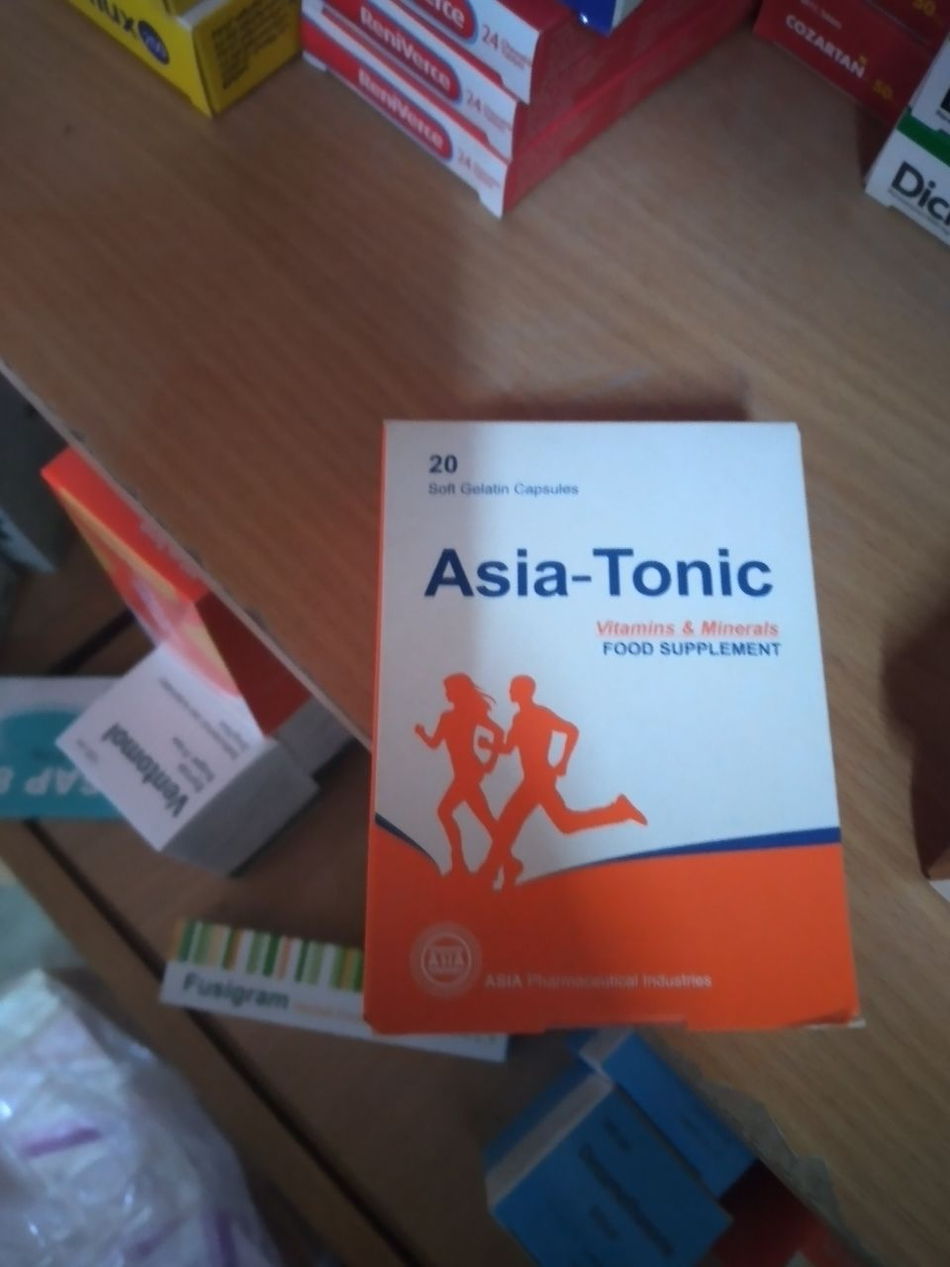Medicine: (366, 399, 861, 1056)
